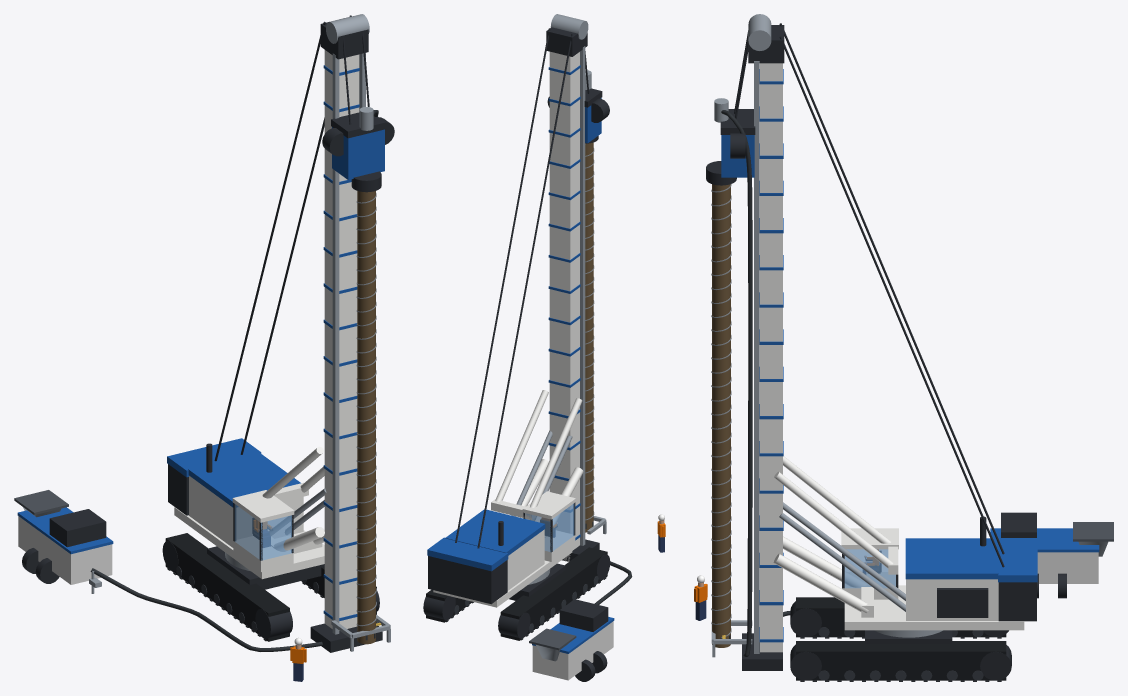
File: cfa-gep-valos-meret.glb
3 views of the same model, side by side, from view 1: azimuth 30°, elevation 25°; view 2: azimuth 150°, elevation 25°; view 3: azimuth 270°, elevation 25° (orthographic). The views are drawn at different scales.
Visible parts, largest first — view 1: CFA_furogep, Talaj_a_meneteken, Betonszivattyu, object 8, Furocsiga, Betontomlo, object 9; view 2: CFA_furogep, Betonszivattyu, Talaj_a_meneteken, Furocsiga, object 8; view 3: CFA_furogep, Talaj_a_meneteken, Betonszivattyu, Betontomlo, Furocsiga, object 8, object 9.
Boxes of the visible parts, <box> form: CFA_furogep: <box>162,14,382,652</box>; Talaj_a_meneteken: <box>357,191,375,644</box>; Betonszivattyu: <box>14,490,113,593</box>; object 8: <box>332,127,384,179</box>; Furocsiga: <box>356,193,376,640</box>; Betontomlo: <box>90,110,378,651</box>; object 9: <box>331,112,385,138</box>; CFA_furogep: <box>423,14,610,640</box>; Betonszivattyu: <box>529,599,614,681</box>; Talaj_a_meneteken: <box>585,142,593,532</box>; Furocsiga: <box>585,144,594,528</box>; object 8: <box>585,98,601,143</box>; CFA_furogep: <box>734,14,1037,681</box>; Talaj_a_meneteken: <box>712,184,730,647</box>; Betonszivattyu: <box>990,512,1113,598</box>; Betontomlo: <box>721,110,790,656</box>; Furocsiga: <box>711,184,731,638</box>; object 8: <box>721,135,754,177</box>; object 9: <box>720,109,755,134</box>.
Bounding box in the file's own units: 10.27 × 27.37 × 16.37.
